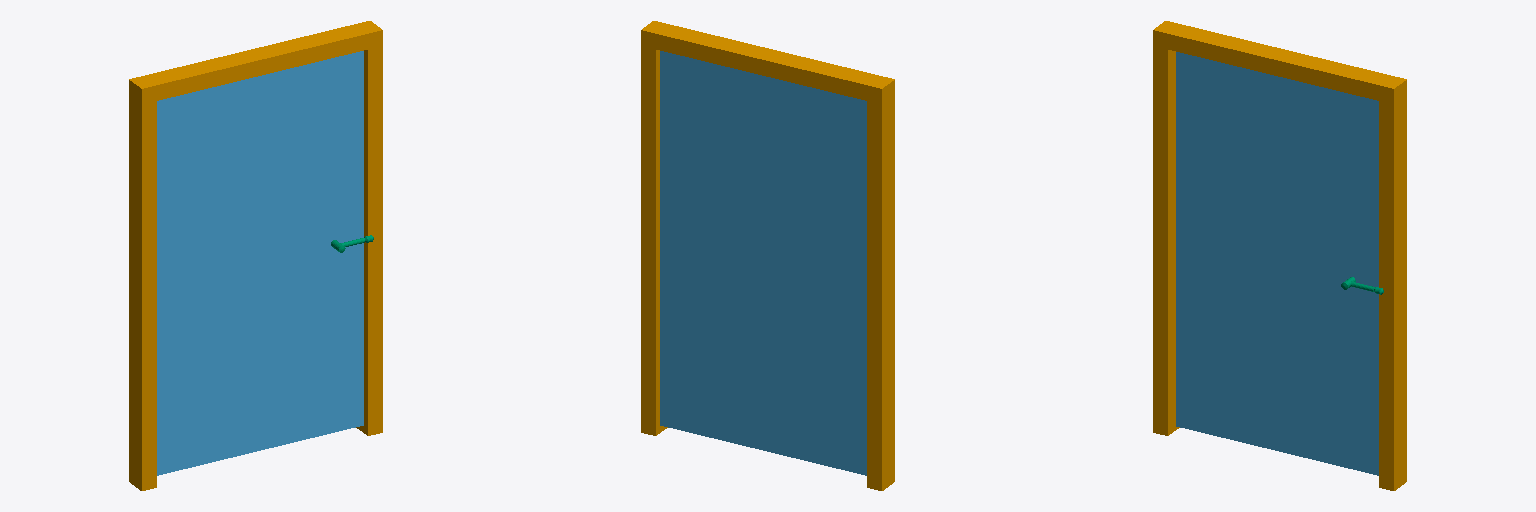
robot.urdf — lever_door:
<?xml version='1.0' encoding='utf-8'?>
<robot name="lever_door">
  <link name="frame">
    <inertial>
      <origin xyz="0.6 0 1.02" rpy="0 0 0" />
      <mass value="1" />
      <inertia ixx="0.348" ixy="0" ixz="0" iyy="0.483333333" iyz="0" izz="0.137733333" />
    </inertial>
    <visual>
      <origin xyz="0 0 0" rpy="1.57079633 0 0" />
      <geometry>
        <mesh filename="links/frame/frame.obj/frame.obj" />
      </geometry>
    </visual>
    <collision>
      <origin xyz="0 0 0" rpy="1.57079633 0 0" />
      <geometry>
        <mesh filename="links/frame/frame.obj/frame.obj" />
      </geometry>
    </collision>
  </link>
  <link name="leaf">
    <inertial>
      <origin xyz="0.55 0 1" rpy="0 0 0" />
      <mass value="1" />
      <inertia ixx="0.30736875" ixy="0" ixz="0" iyy="0.408033333" iyz="0" izz="0.101002083" />
    </inertial>
    <visual>
      <origin xyz="-0.06 0 0" rpy="1.57079633 0 0" />
      <geometry>
        <mesh filename="links/leaf/leaf.obj/leaf.obj" />
      </geometry>
    </visual>
    <collision>
      <origin xyz="-0.06 0 0" rpy="1.57079633 0 0" />
      <geometry>
        <mesh filename="links/leaf/leaf.obj/leaf.obj" />
      </geometry>
    </collision>
  </link>
  <link name="handle_link">
    <inertial>
      <origin xyz="0.0835 0 0" rpy="0 0 0" />
      <mass value="1" />
      <inertia ixx="0.000641333" ixy="0" ixz="0" iyy="0.003542083" iyz="0" izz="0.003967417" />
    </inertial>
    <visual>
      <origin xyz="-1 0.0625 -1" rpy="1.57079633 0 0" />
      <geometry>
        <mesh filename="links/handle_link/handle_link.obj/handle_link.obj" />
      </geometry>
    </visual>
    <collision>
      <origin xyz="-1 0.0625 -1" rpy="1.57079633 0 0" />
      <geometry>
        <mesh filename="links/handle_link/handle_link.obj/handle_link.obj" />
      </geometry>
    </collision>
  </link>
  <joint name="hinge" type="revolute">
    <origin xyz="0.06 0 0" rpy="0 0 0" />
    <parent link="frame" />
    <child link="leaf" />
    <axis xyz="0 0 1" />
    <limit lower="0" upper="1.570796" effort="100" velocity="1" />
  </joint>
  <joint name="handle_joint" type="revolute">
    <origin xyz="0.94 -0.0625 1" rpy="0 0 0" />
    <parent link="leaf" />
    <child link="handle_link" />
    <axis xyz="0 1 0" />
    <limit lower="0" upper="0.65" effort="100" velocity="2" />
  </joint>
</robot>

--- Render facts (derived) ---
The picture shows the robot from 3 angles, left to right: view 1: azimuth 30°, elevation 25°; view 2: azimuth 150°, elevation 25°; view 3: azimuth 330°, elevation 25°; orthographic projection.
Model lever_door with 3 links and 2 joints (2 revolute), rooted at frame, posed all joints at 0.
Links seen in each view (by area): view 1: leaf, frame; view 2: leaf, frame; view 3: leaf, frame.
Link boxes in pixels (x1,y1,x2,y2): leaf: (157,51,363,475); frame: (129,21,382,490); leaf: (660,51,866,475); frame: (641,21,894,490); leaf: (1176,52,1378,475); frame: (1153,21,1406,490).
Size in the robot's own frame: 1.28 by 0.1625 by 2.04 metres.
Meshes: 3 distinct files referenced, 3 mesh visuals loaded (3 OBJ).
